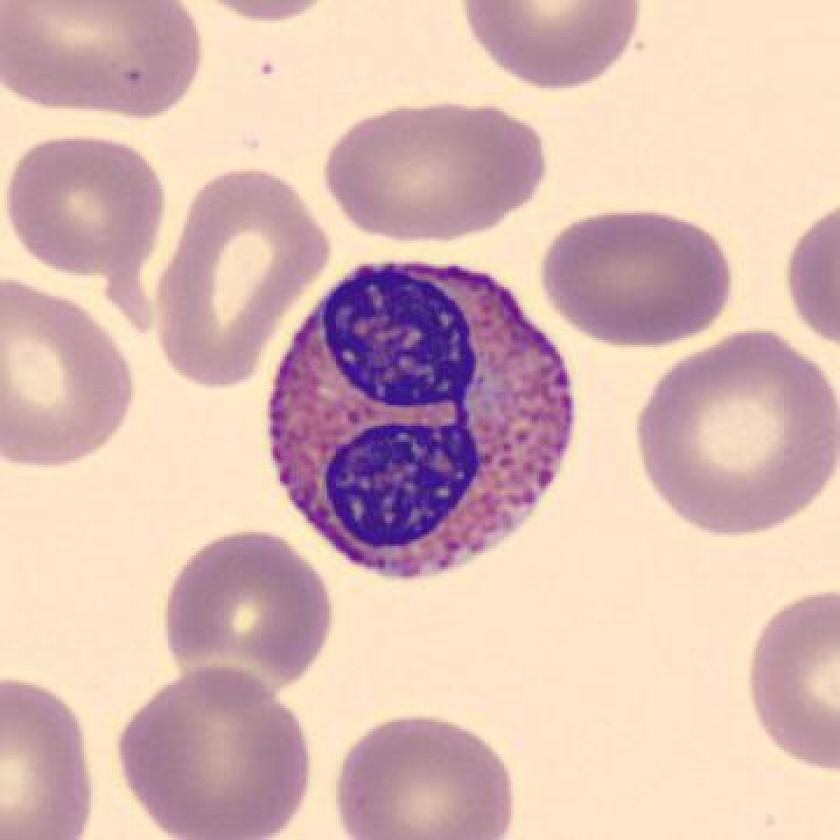eosinophil: (253, 251, 594, 589)
